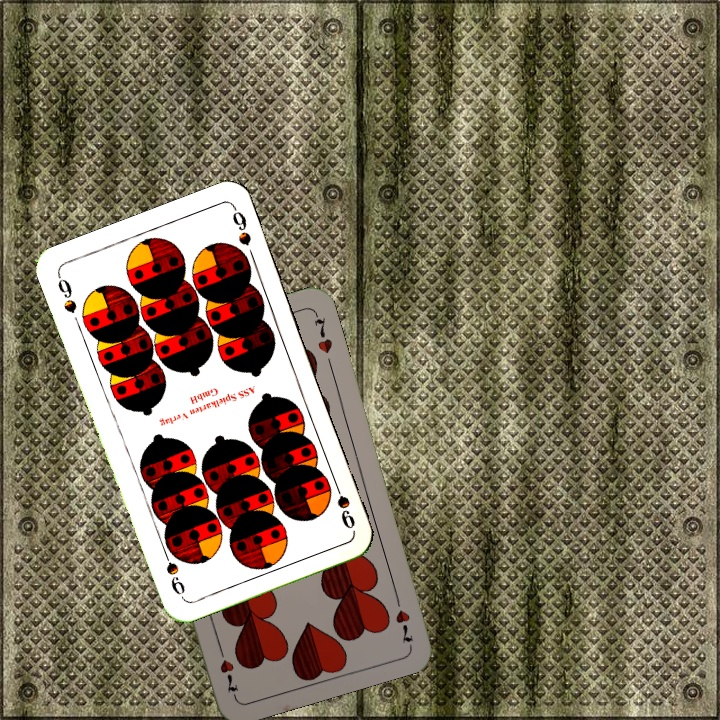H7: (391, 589, 416, 646)
S9: (329, 475, 358, 532), (53, 270, 80, 316)
